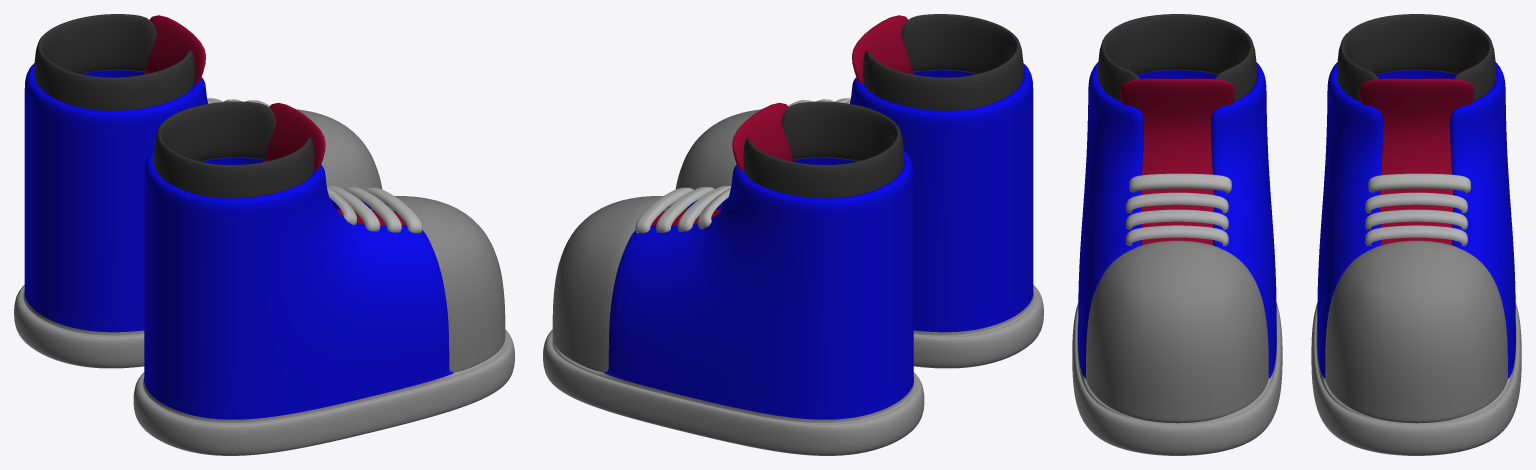
Rendered from low_poly_3d_shoes.glb.
3 renders of one model, left to right at view 1: azimuth 30°, elevation 25°; view 2: azimuth 150°, elevation 25°; view 3: azimuth 270°, elevation 25°, orthographic.
Parts seen in each view (by area): view 1: Cube.004_12, Cube_0, Cube.002_2, Cube.006_14, Cube.007_15, Cube.003_3, Cube.005_13, Cube.001_1, NurbsPath.012_20, NurbsPath.013_21, NurbsPath.014_22; view 2: Cube_0, Cube.004_12, Cube.006_14, Cube.002_2, Cube.003_3, Cube.007_15, Cube.001_1, Cube.005_13, NurbsPath.008_8, NurbsPath.009_9, NurbsPath.010_10; view 3: Cube_0, Cube.004_12, Cube.003_3, Cube.007_15, Cube.002_2, Cube.006_14, Cube.005_13, Cube.001_1, NurbsPath.011_11, NurbsPath.015_23, NurbsPath.008_8, NurbsPath.014_22 (+4 smaller).
Part boxes in pixels (x1=…): Cube.004_12: x1=133, y1=150, x2=514, y2=455; Cube_0: x1=14, y1=63, x2=207, y2=368; Cube.002_2: x1=34, y1=14, x2=194, y2=110; Cube.006_14: x1=154, y1=101, x2=314, y2=198; Cube.007_15: x1=370, y1=196, x2=505, y2=372; Cube.003_3: x1=296, y1=109, x2=382, y2=189; Cube.005_13: x1=263, y1=102, x2=406, y2=225; Cube.001_1: x1=143, y1=15, x2=205, y2=82; NurbsPath.012_20: x1=364, y1=187, x2=422, y2=233; NurbsPath.013_21: x1=343, y1=187, x2=401, y2=232; NurbsPath.014_22: x1=326, y1=185, x2=380, y2=231; Cube_0: x1=543, y1=150, x2=924, y2=455; Cube.004_12: x1=850, y1=63, x2=1043, y2=368; Cube.006_14: x1=863, y1=14, x2=1023, y2=110; Cube.002_2: x1=743, y1=101, x2=903, y2=198; Cube.003_3: x1=552, y1=196, x2=687, y2=372; Cube.007_15: x1=675, y1=109, x2=761, y2=189; Cube.001_1: x1=651, y1=102, x2=794, y2=225; Cube.005_13: x1=852, y1=15, x2=914, y2=82; NurbsPath.008_8: x1=635, y1=187, x2=693, y2=233; NurbsPath.009_9: x1=656, y1=187, x2=714, y2=232; NurbsPath.010_10: x1=677, y1=185, x2=731, y2=231; Cube_0: x1=1311, y1=62, x2=1521, y2=455; Cube.004_12: x1=1072, y1=62, x2=1282, y2=455; Cube.003_3: x1=1325, y1=240, x2=1507, y2=423; Cube.007_15: x1=1086, y1=240, x2=1268, y2=423; Cube.002_2: x1=1337, y1=14, x2=1495, y2=101; Cube.006_14: x1=1098, y1=14, x2=1256, y2=101; Cube.005_13: x1=1120, y1=78, x2=1234, y2=245; Cube.001_1: x1=1359, y1=78, x2=1473, y2=245; NurbsPath.011_11: x1=1368, y1=173, x2=1470, y2=193; NurbsPath.015_23: x1=1129, y1=173, x2=1231, y2=193; NurbsPath.008_8: x1=1365, y1=225, x2=1467, y2=246; NurbsPath.014_22: x1=1126, y1=192, x2=1228, y2=213.
Bounding box in the file's own units: 4.11 × 3.15 × 4.52.
